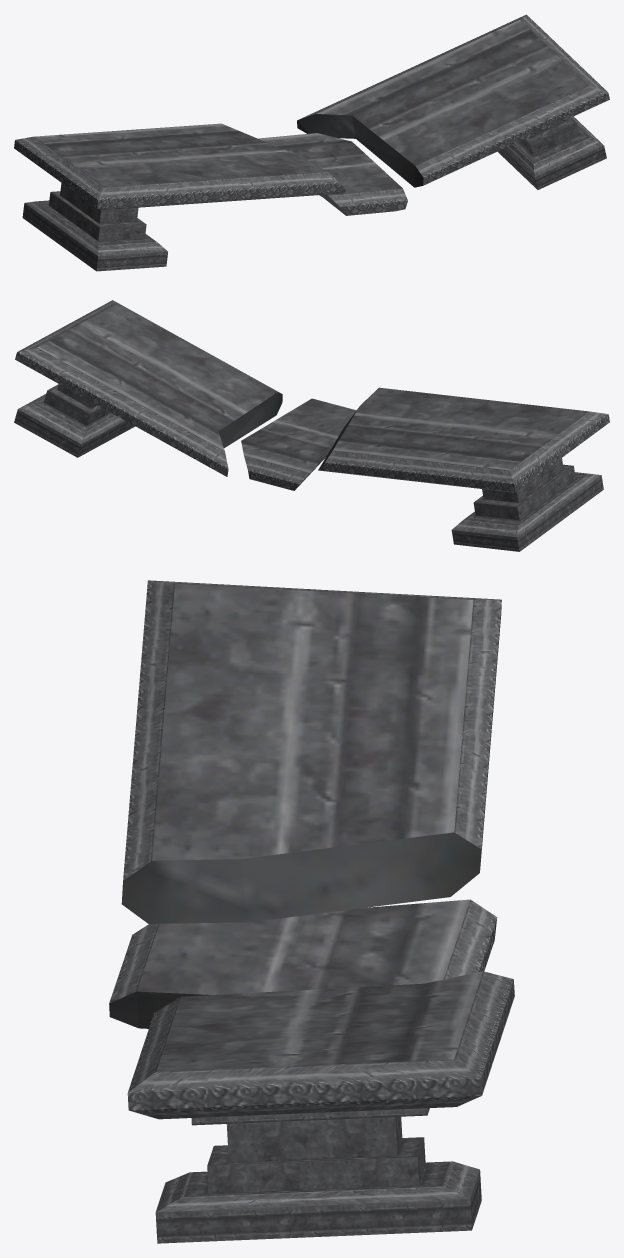
The model's file is bench-02-broken.fbx.
3 views of the same model, one above another, from view 1: azimuth 30°, elevation 25°; view 2: azimuth 150°, elevation 25°; view 3: azimuth 270°, elevation 25° (orthographic). The views are drawn at different scales.
Parts seen in each view (by area): view 1: Cube.267; view 2: Cube.267; view 3: Cube.267.
Part boxes in pixels (x1=…): Cube.267: x1=14, y1=14, x2=609, y2=271; Cube.267: x1=14, y1=300, x2=609, y2=551; Cube.267: x1=109, y1=580, x2=514, y2=1243.
Bounding box in the file's own units: 2.64 × 0.5191 × 0.8998.
